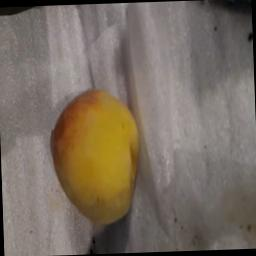Peach Unripe: (38, 86, 156, 228)
